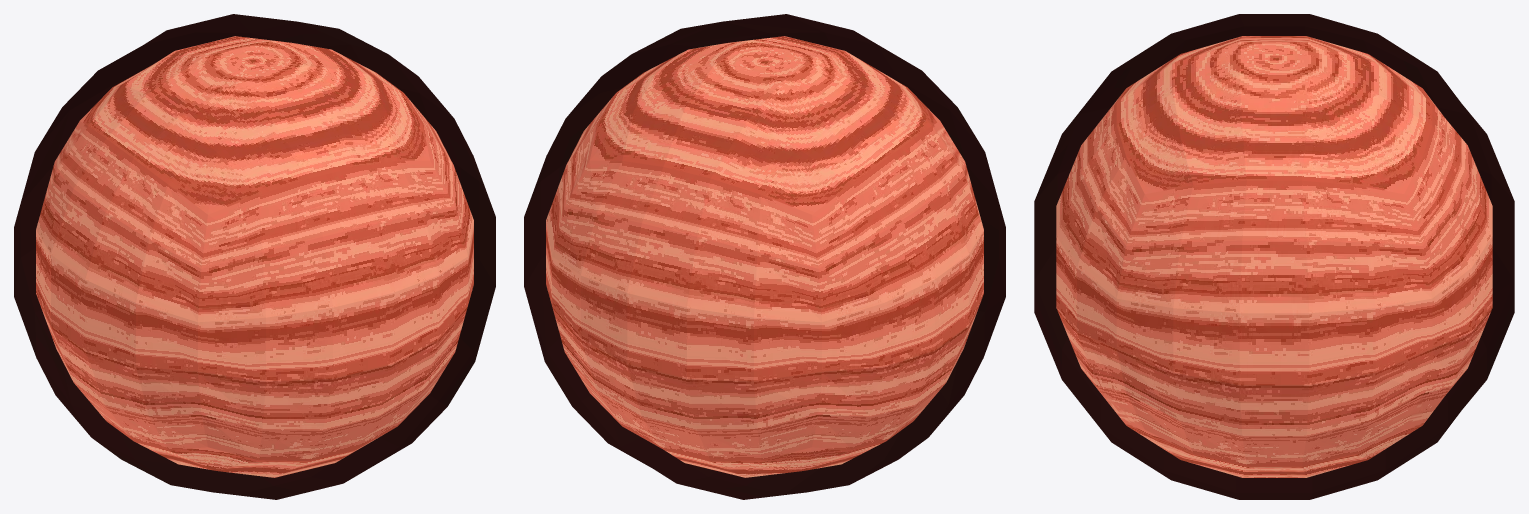
File: planet_08.glb
3 renders of one model, left to right at view 1: azimuth 30°, elevation 25°; view 2: azimuth 150°, elevation 25°; view 3: azimuth 270°, elevation 25°, orthographic.
Parts seen in each view (by area): view 1: Object_2; view 2: Object_2; view 3: Object_2.
Part boxes in pixels (x1,y1,x2,y2): Object_2: (14, 14, 495, 499); Object_2: (524, 14, 1005, 499); Object_2: (1034, 14, 1514, 499).
Size of the model in its own units: 3.7 by 3.7 by 3.7.
1 material, 1 textured.
